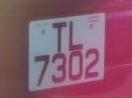0: (68, 47, 85, 86)
2: (84, 44, 102, 85)
3: (50, 50, 69, 88)
7: (31, 51, 51, 88)
L: (67, 16, 87, 51)
T: (48, 19, 68, 53)
